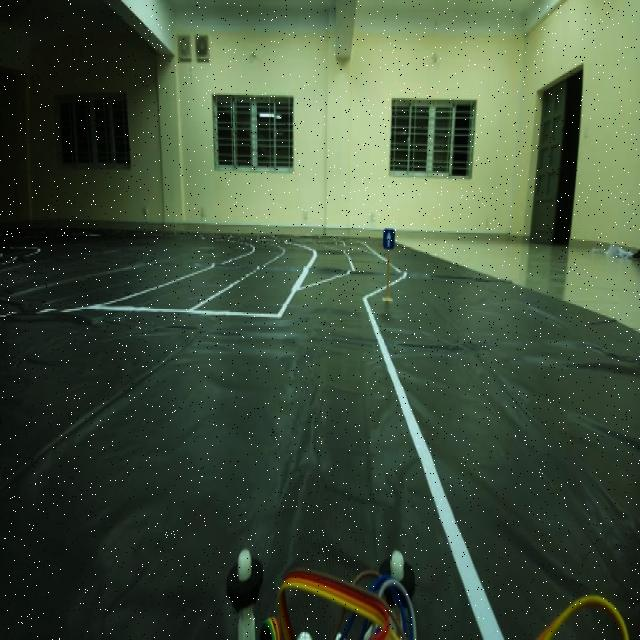onewayroad: (382, 226, 396, 254)
